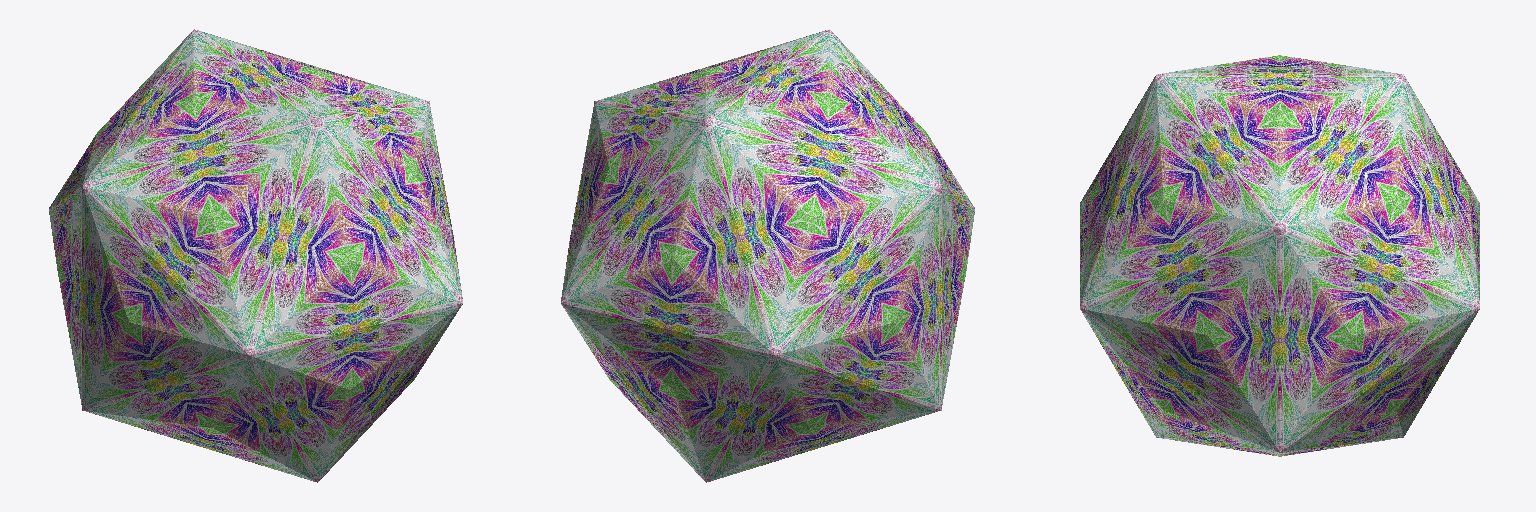
The picture shows the model from 3 angles: view 1: azimuth 30°, elevation 25°; view 2: azimuth 150°, elevation 25°; view 3: azimuth 270°, elevation 25°; orthographic projection.
Bounding box in the file's own units: 5.85 × 5.85 × 5.85.
Materials: 1 (1 with a texture image).